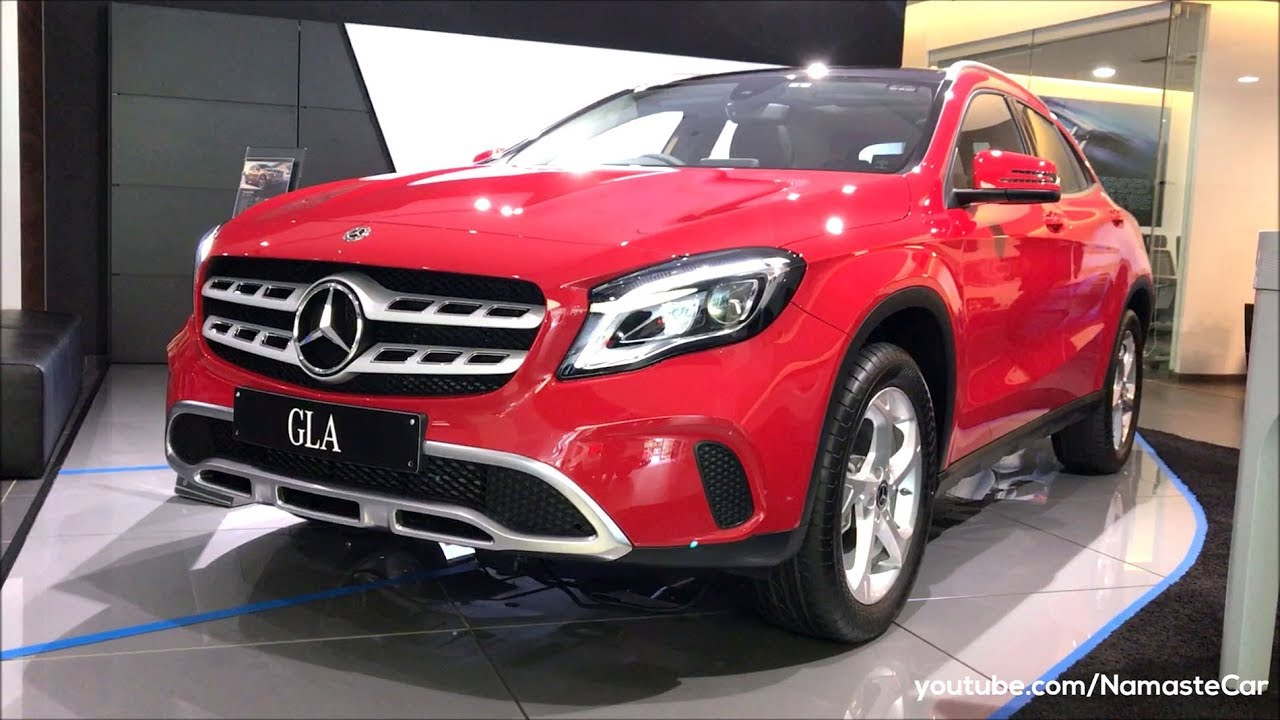gla: (159, 41, 1178, 637)
